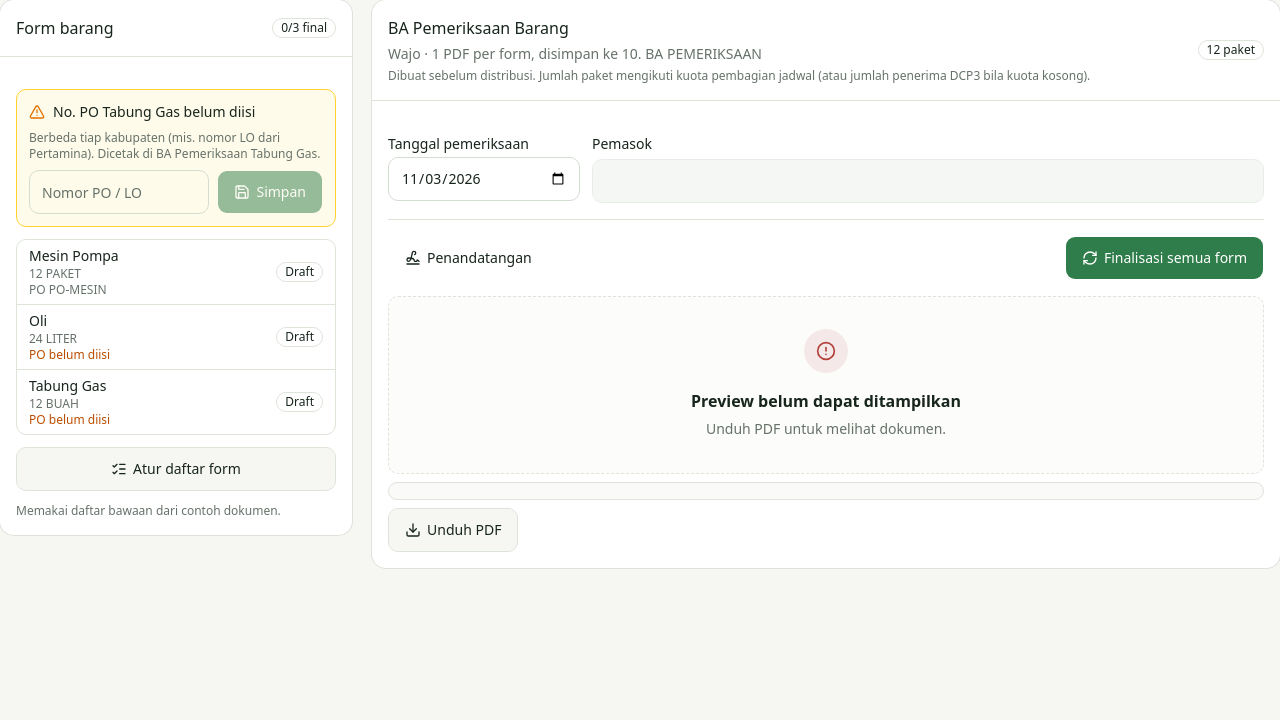
Test: asks for the kabupaten No. PO of the LPG tank, then shows it on one line
expect the text "No. PO Tabung Gas belum diisi" is shown: met, box [29,102,255,121]
Type "LO/WJO/01" into the field named "No. PO Tabung Gas" at (119, 192), box [29,170,210,214]
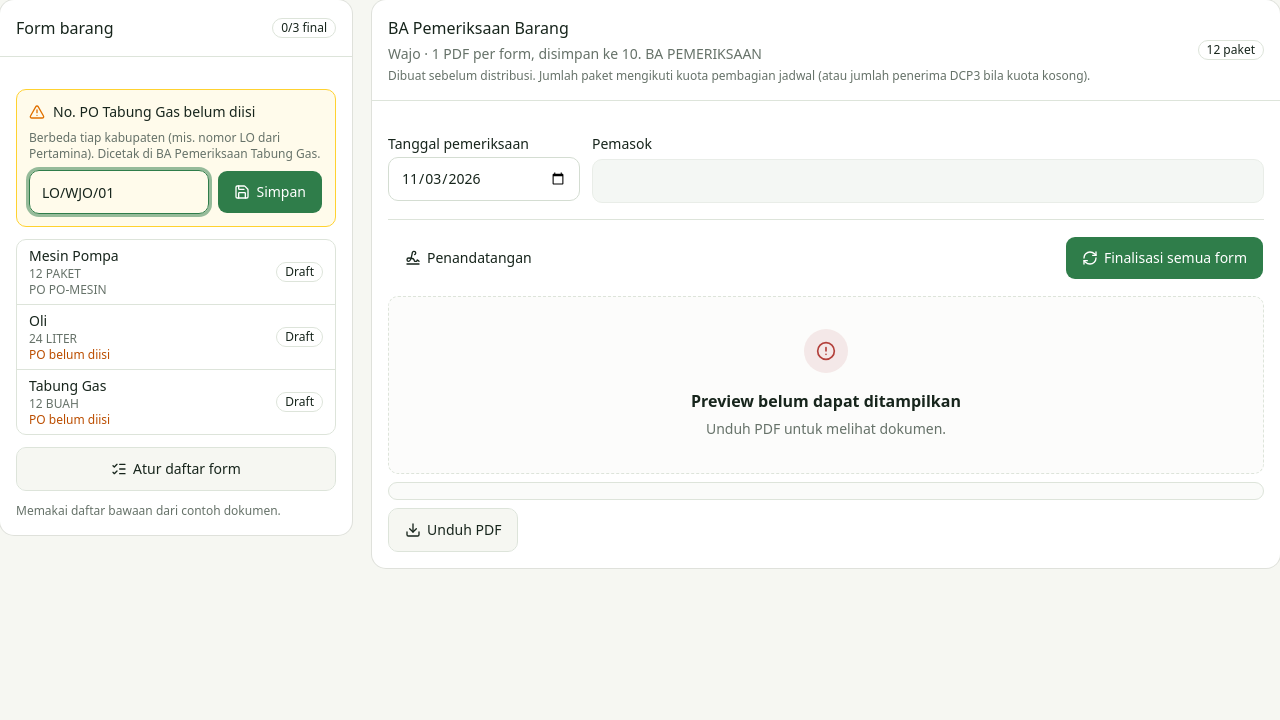
Click the button "Simpan" at (270, 192), box [218,170,323,214]
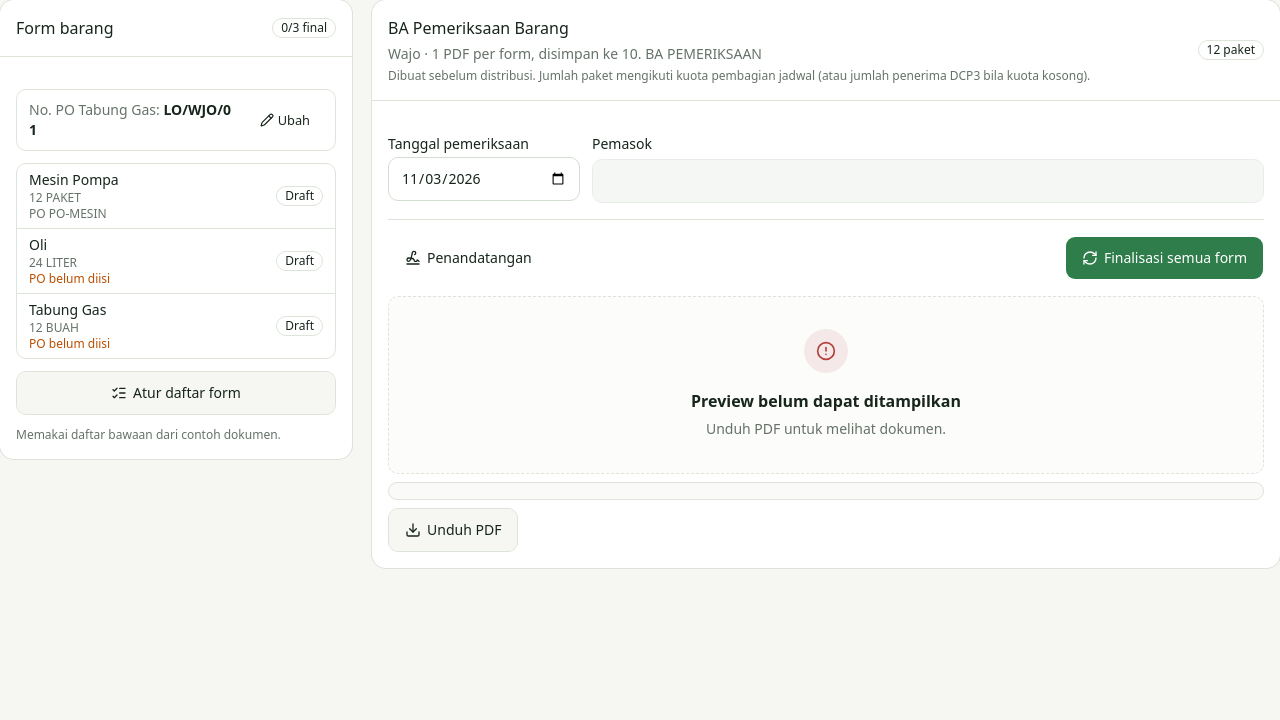
expect the text "LO/WJO/01" is shown: met, box [29,100,231,139]
expect the button "Ubah" is shown: met, box [247,98,323,142]
